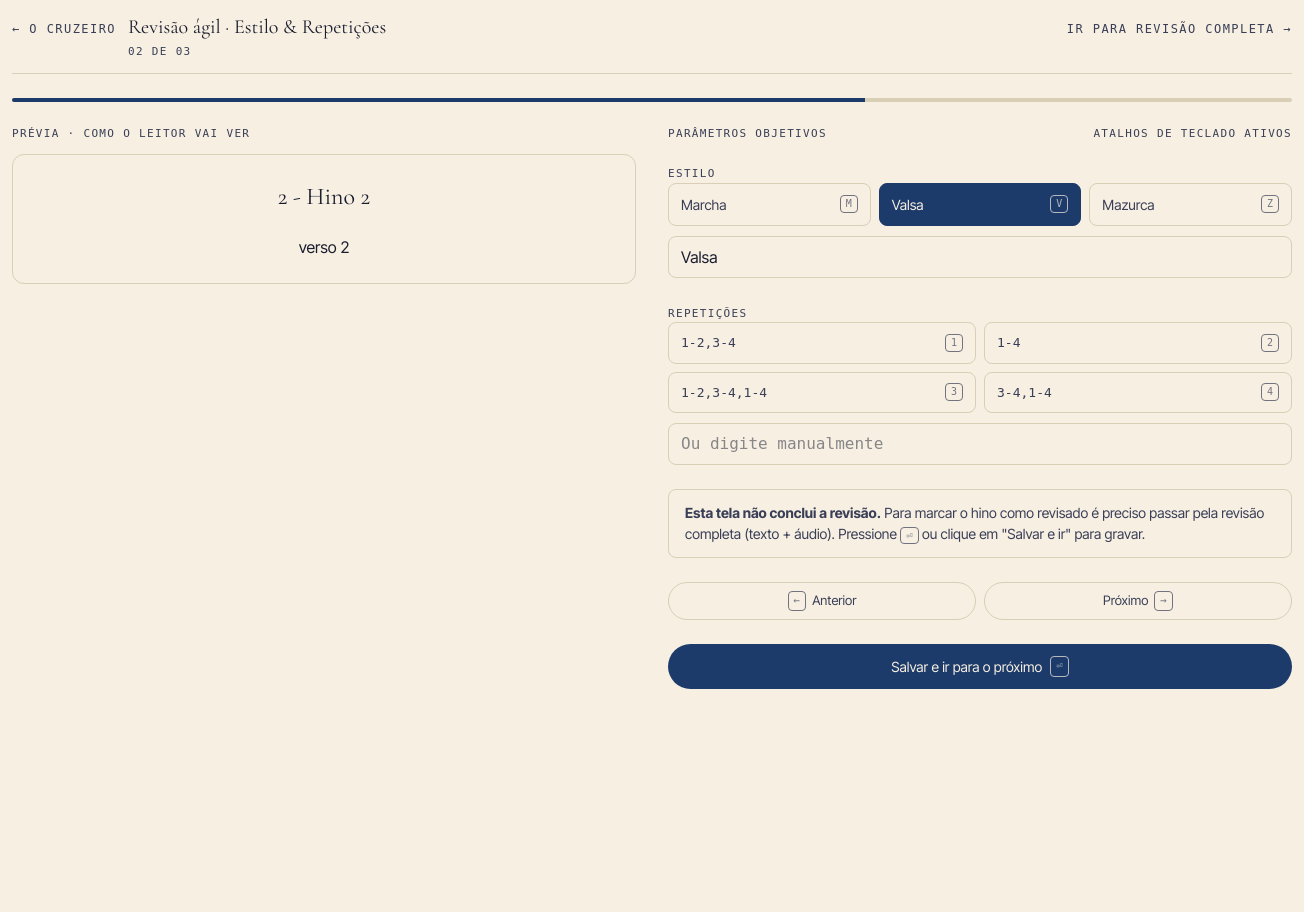
Scenario: /editor/hinarios/[slug]/revisao-agil — conclusão (5E.4) › salvar o último hino incompleto cai na conclusão sem sair da tela
What coordinates should you click on to do the following:
click the button with test id "quick-review-submit"
I would click on:
 (980, 666)
Its box is [668,644,1292,689].
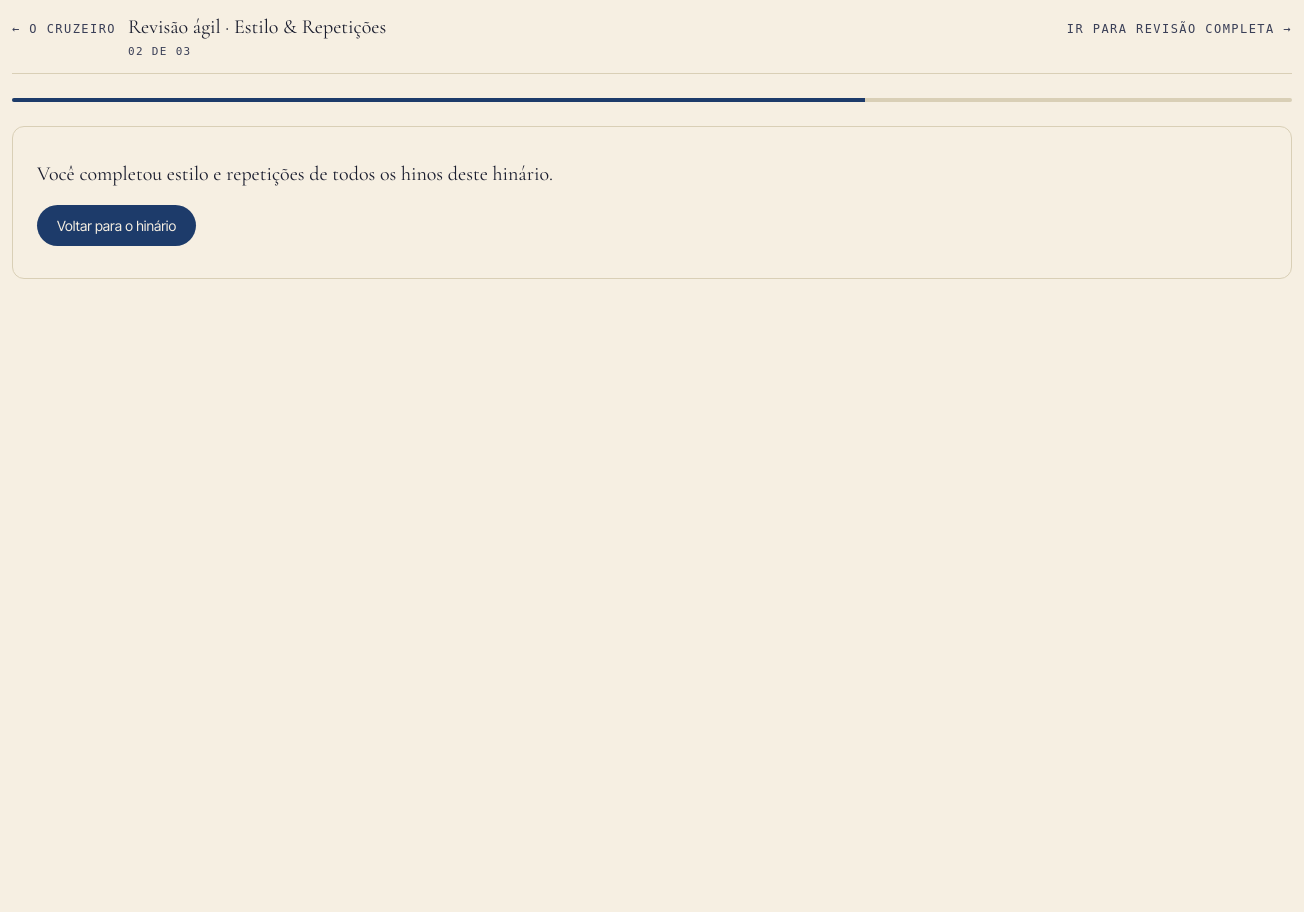
Now the element with test id "quick-review-done" shows "completou estilo e repetições", box [37,162,553,186]
